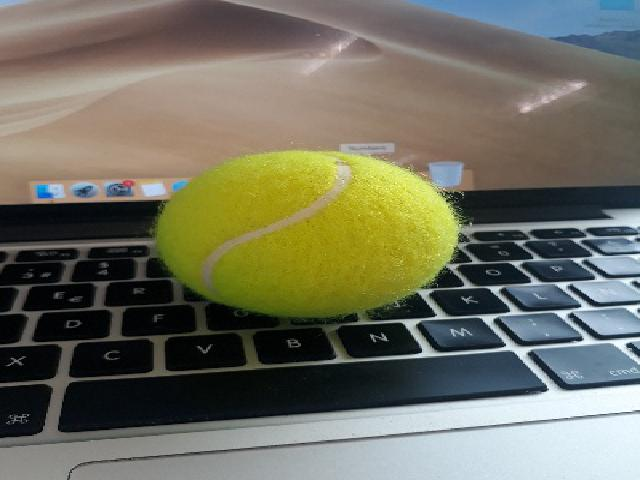Ball: (154, 150, 459, 318)
